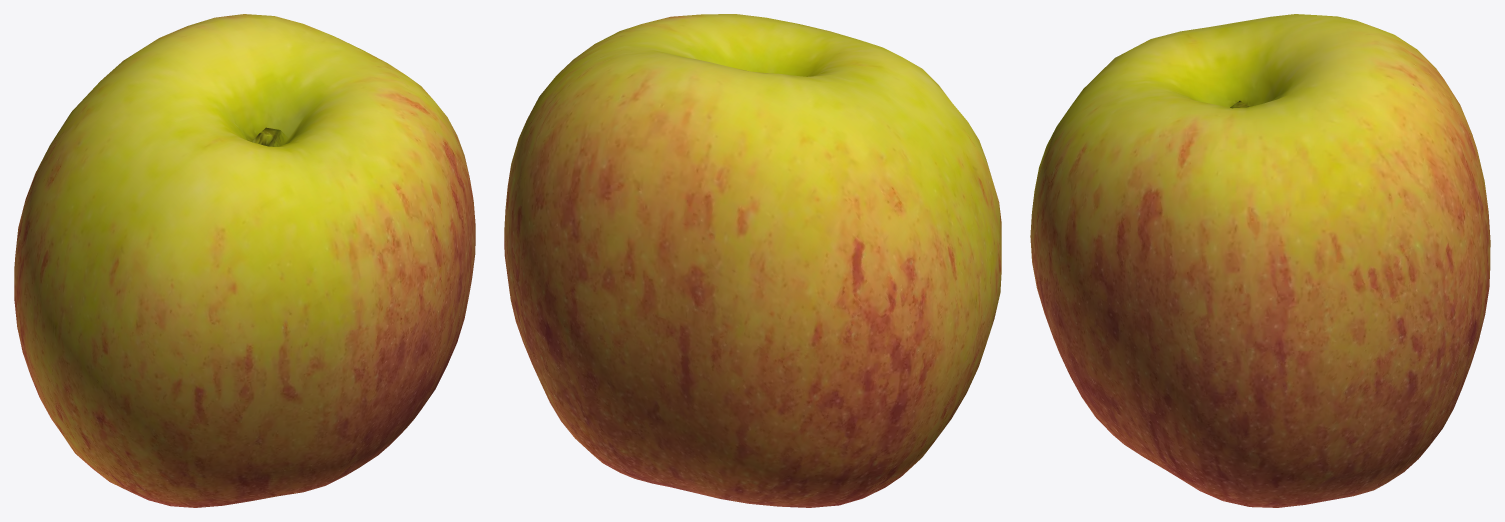
Rendered from apple.glb.
3 renders of one model, left to right at view 1: azimuth 30°, elevation 25°; view 2: azimuth 150°, elevation 25°; view 3: azimuth 270°, elevation 25°, orthographic. The views are drawn at different scales.
Visible parts, largest first — view 1: SM_Apple_02; view 2: SM_Apple_02; view 3: SM_Apple_02.
Boxes of the visible parts, bbox=[...] form: SM_Apple_02: bbox=[14, 14, 475, 507]; SM_Apple_02: bbox=[504, 14, 1001, 507]; SM_Apple_02: bbox=[1030, 14, 1490, 507].
Size of the model in its own units: 0.0998 by 0.0943 by 0.0919.
Materials: 1 (1 with a texture image).
